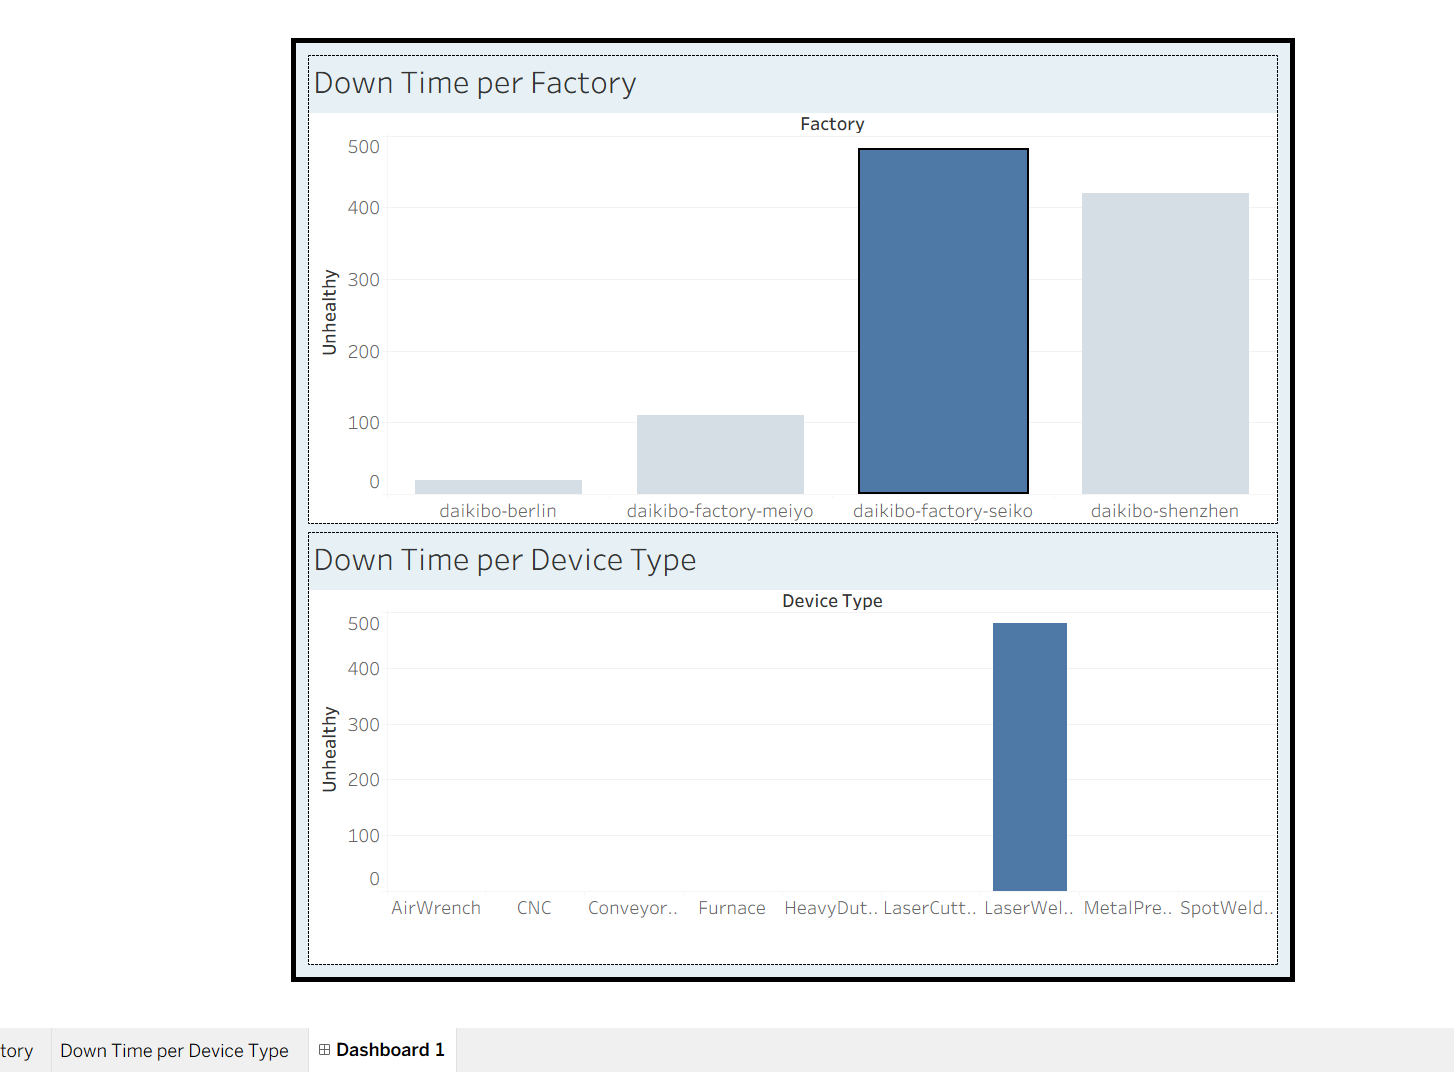

This screenshot's page, from the dashboard's own definition file:
{"tool":"tableau","page":{"name":"Dashboard 1","canvas":[1000,1000],"units":"permille","ordinal":0},"visuals":[{"type":"worksheet","title":"Down Time per Factory","mark":"Automatic","rows":["Calculation_0695497622880256"],"cols":["factory"],"box":[20.6,26,958.8,492.5]},{"type":"worksheet","title":"Down Time per Device Type","mark":"Automatic","rows":["Calculation_0695497622880256"],"cols":["deviceType"],"box":[20.6,518.5,958.8,455.5]}]}

Visuals, with their boxes on the dashboard's canvas, which has no fixed pixel size, in thousandths of its width and height (x1, y1, x2, y2). These are canvas units, not pixel positions in the 1454x1072 screenshot, which may show the page scaled, cropped or inside an application window:
"Down Time per Factory" worksheet: pyautogui.locateOnScreen(21, 26, 979, 518)
"Down Time per Device Type" worksheet: pyautogui.locateOnScreen(21, 518, 979, 974)
